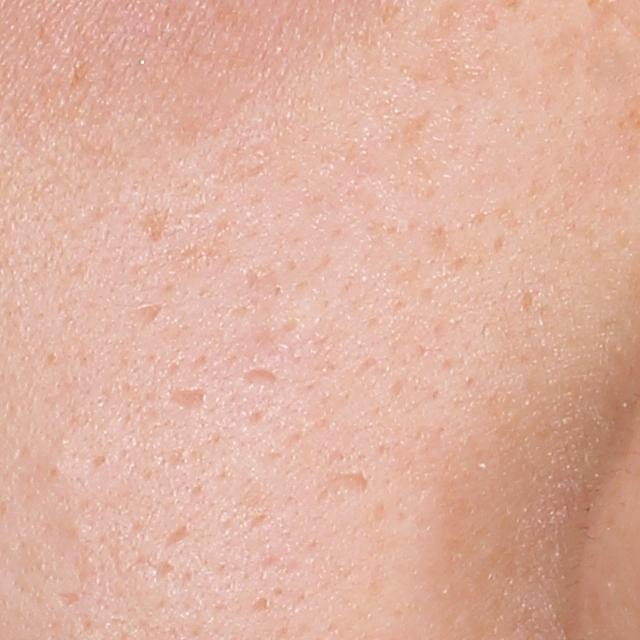atrophic_scar: (237, 364, 284, 392), (330, 468, 371, 499), (167, 385, 207, 415), (130, 300, 167, 332), (164, 522, 190, 550)
